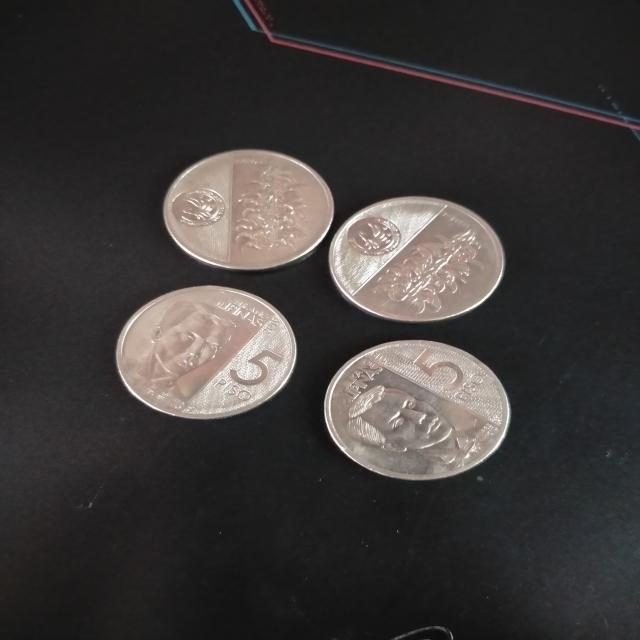5_New_Back: (369, 222, 478, 321)
5_New_Front: (405, 348, 501, 411), (205, 338, 284, 406)
